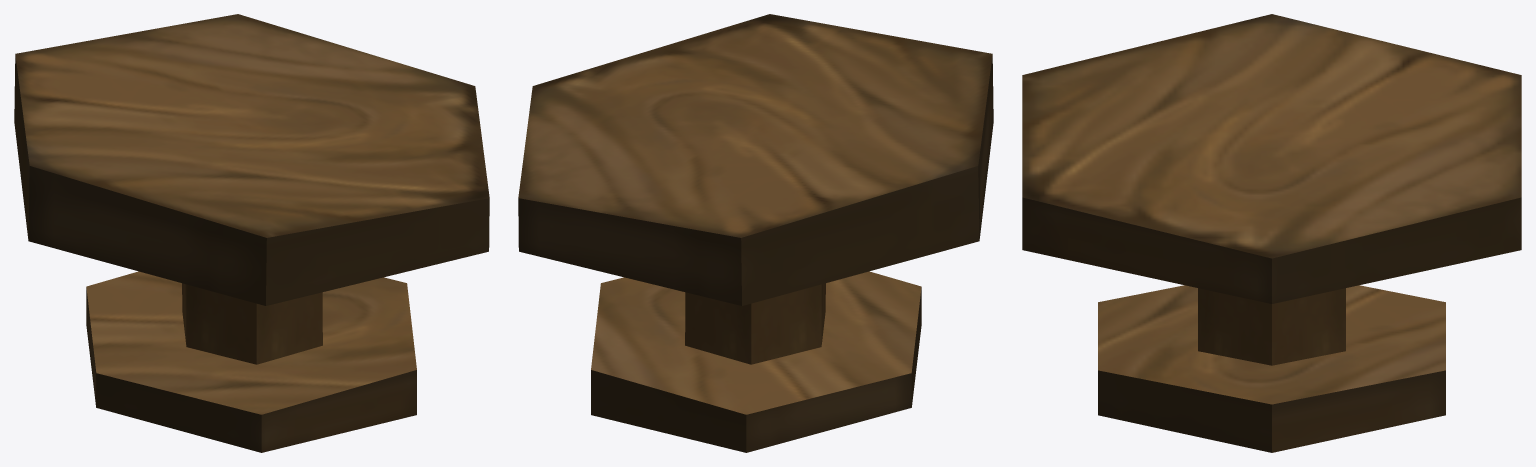
The model's file is OutdoorM_Table_b.FBX.
3 views of the same model, side by side, from view 1: azimuth 30°, elevation 25°; view 2: azimuth 150°, elevation 25°; view 3: azimuth 270°, elevation 25° (orthographic).
Parts seen in each view (by area): view 1: OutdoorM_Table_b; view 2: OutdoorM_Table_b; view 3: OutdoorM_Table_b.
Boxes of the visible parts, x1=… form: OutdoorM_Table_b: x1=14, y1=14, x2=489, y2=452; OutdoorM_Table_b: x1=518, y1=14, x2=993, y2=452; OutdoorM_Table_b: x1=1022, y1=14, x2=1521, y2=452.
Bounding box in the file's own units: 15.14 × 8.36 × 14.76.
